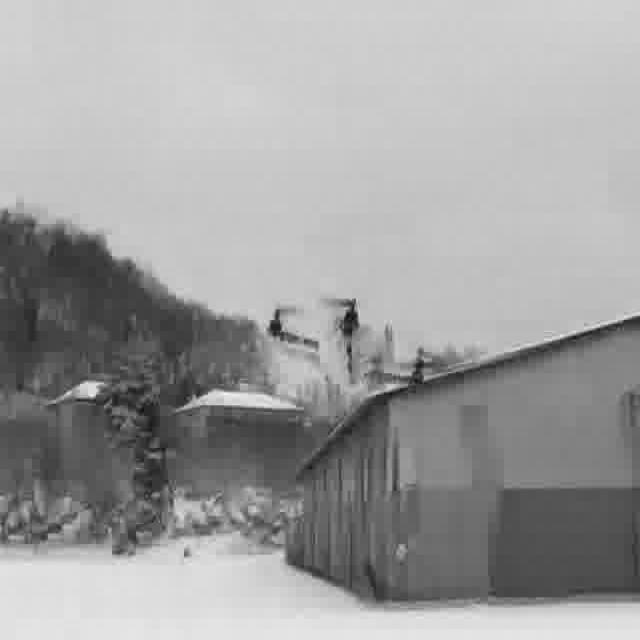drone: (258, 291, 454, 402)
